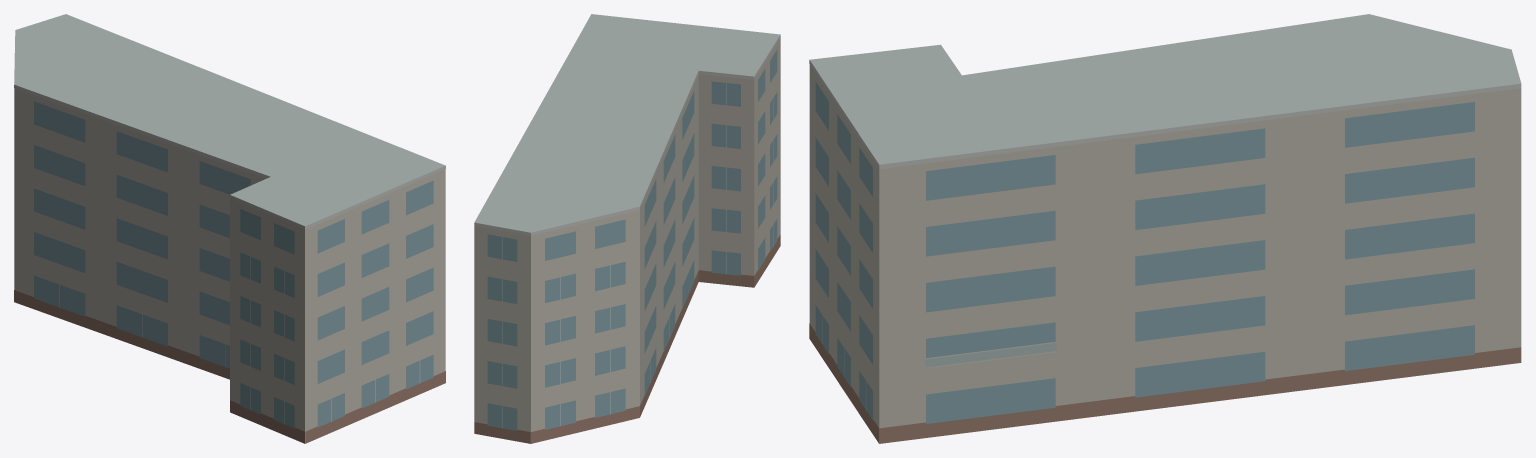
The model's file is survey-upis-32840080.glb.
3 renders of one model, left to right at view 1: azimuth 30°, elevation 25°; view 2: azimuth 150°, elevation 25°; view 3: azimuth 270°, elevation 25°, orthographic. The views are drawn at different scales.
Visible parts, largest first — view 1: survey-upis-32840080.tmp; view 2: survey-upis-32840080.tmp; view 3: survey-upis-32840080.tmp.
Boxes of the visible parts, x1,y1,x2,y2 form: survey-upis-32840080.tmp: (14,14,445,443); survey-upis-32840080.tmp: (474,14,780,443); survey-upis-32840080.tmp: (809,14,1521,443).
Bounding box in the file's own units: 17.67 × 15.25 × 35.26.
